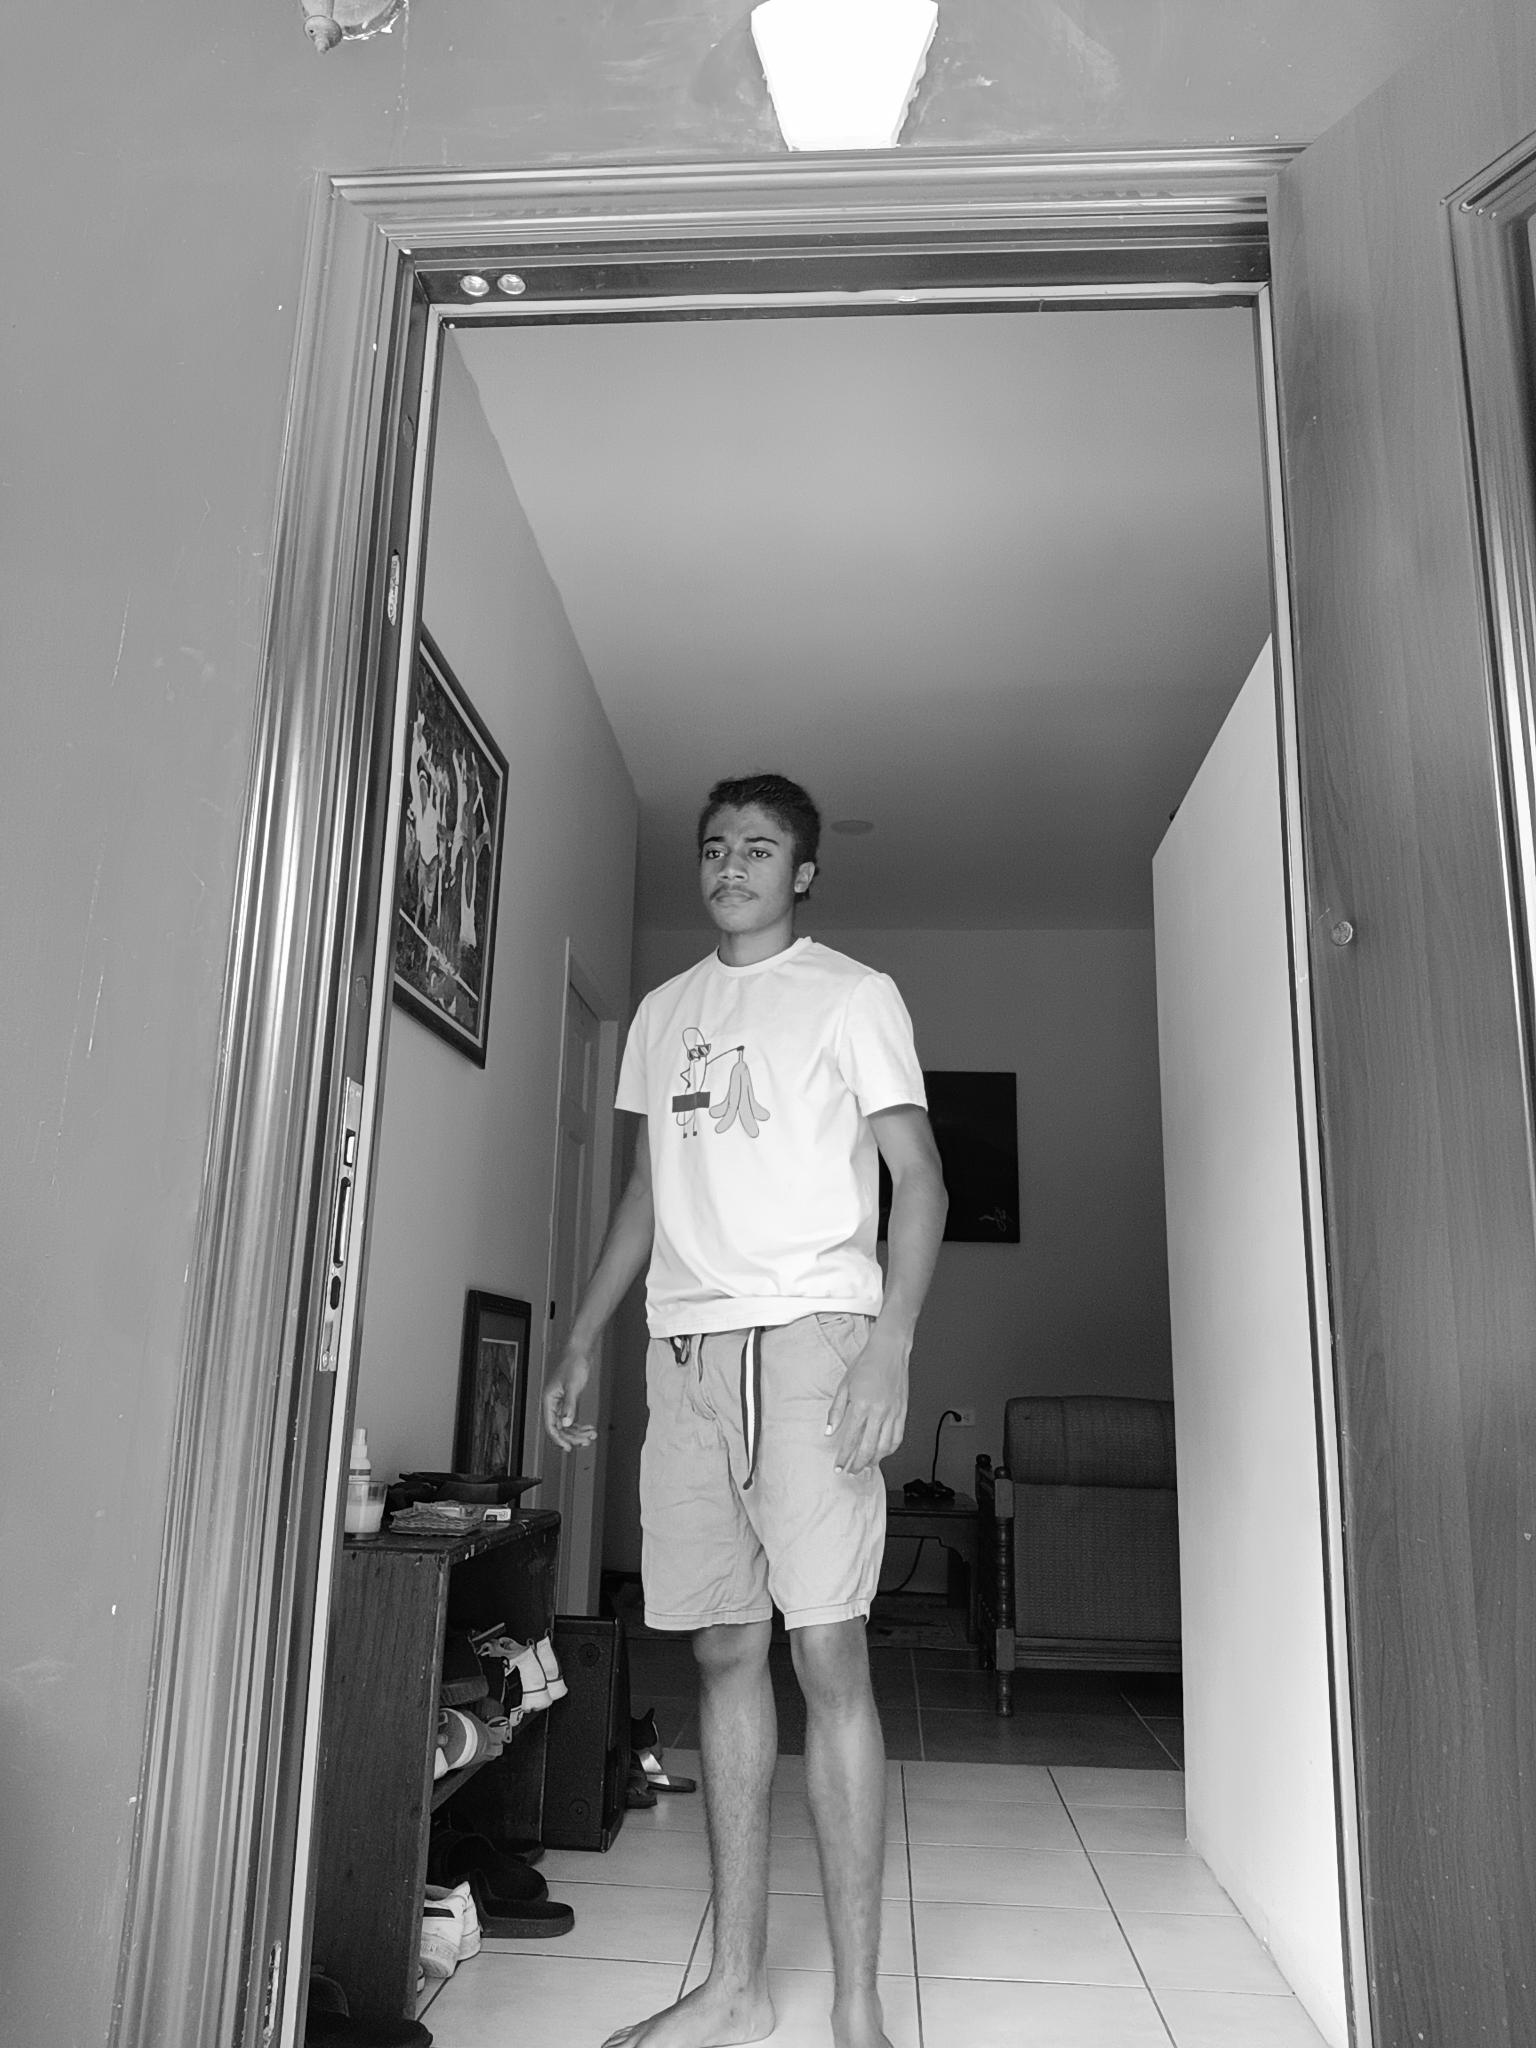front: (537, 768, 954, 2040)
